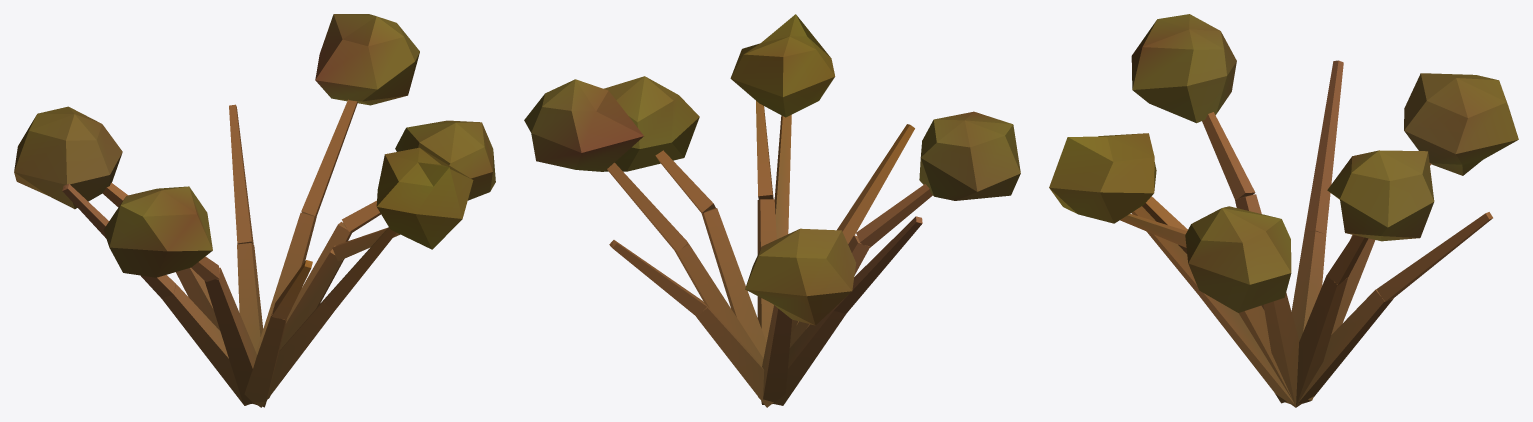
Rendered from Desert_Scrub_01.glb.
3 renders of one model, left to right at view 1: azimuth 30°, elevation 25°; view 2: azimuth 150°, elevation 25°; view 3: azimuth 270°, elevation 25°, orthographic. The views are drawn at different scales.
Visible parts, largest first — view 1: Desert_Scrub_01; view 2: Desert_Scrub_01; view 3: Desert_Scrub_01.
Boxes of the visible parts, left/top/right/bottom form: Desert_Scrub_01: left=14, top=14, right=495, bottom=407; Desert_Scrub_01: left=524, top=14, right=1020, bottom=407; Desert_Scrub_01: left=1049, top=14, right=1518, bottom=407.
Bounding box in the file's own units: 1.15 × 0.8411 × 1.07.
